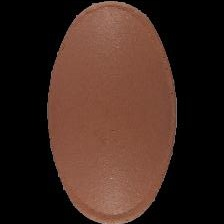68462-292: (0, 0, 224, 224)
